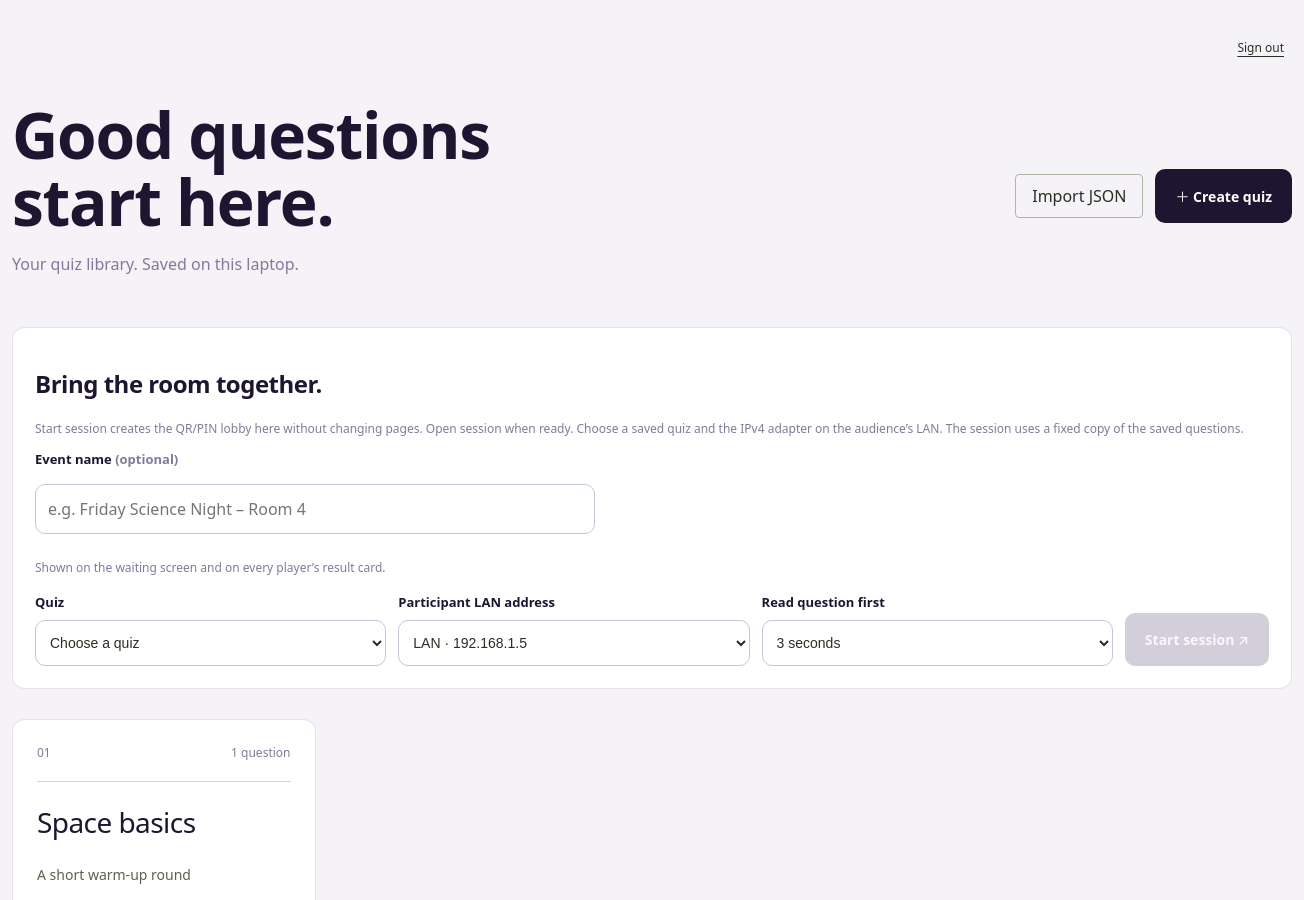
can stop the active session from the library without opening the projector
This screenshot has width=1304, height=900.
Select "Space basics" in the dropdown labelled "Quiz" at (211, 643), box [35, 620, 386, 666]
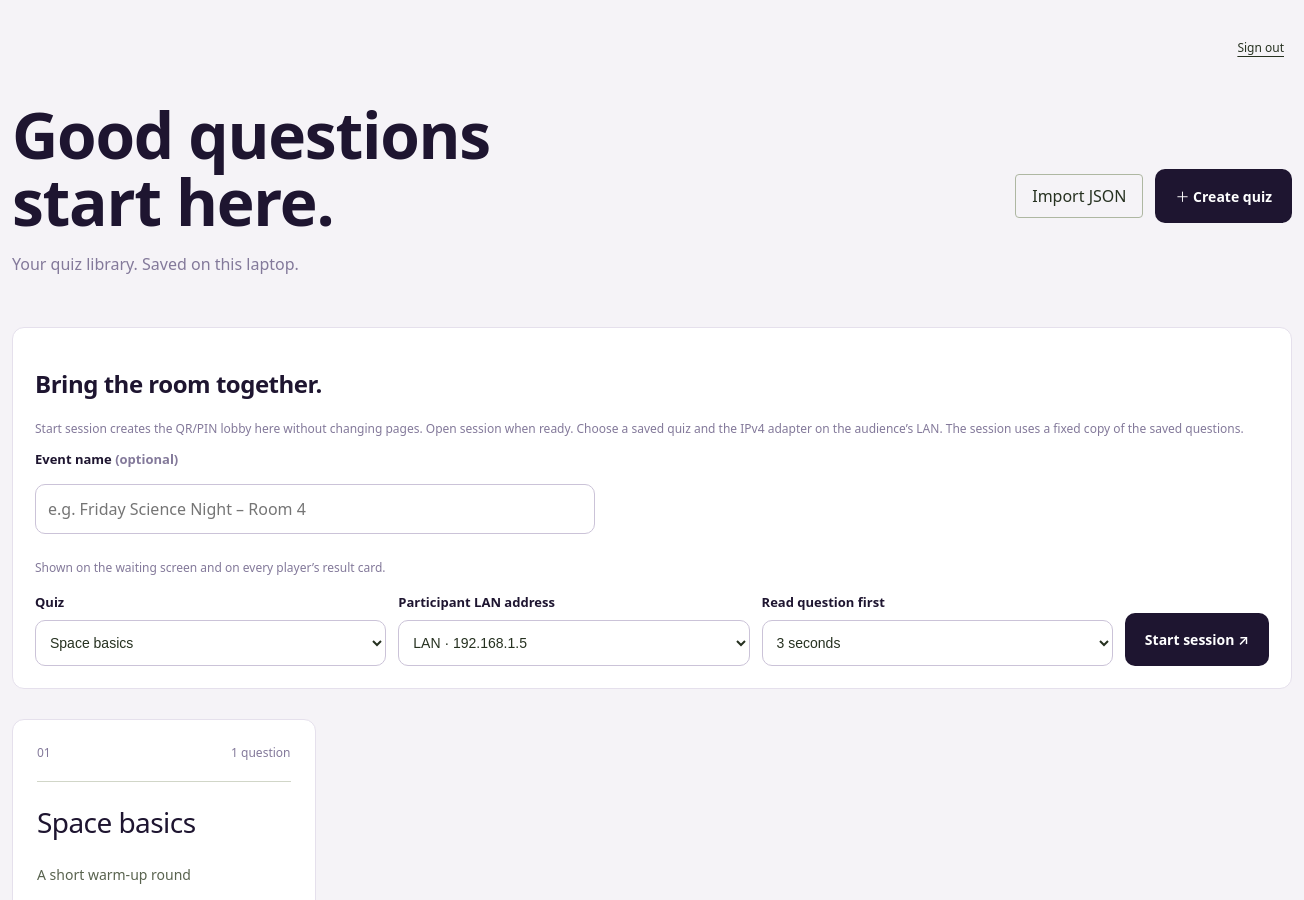
Click the button "Start session ↗" at (1197, 640), box [1125, 613, 1269, 666]
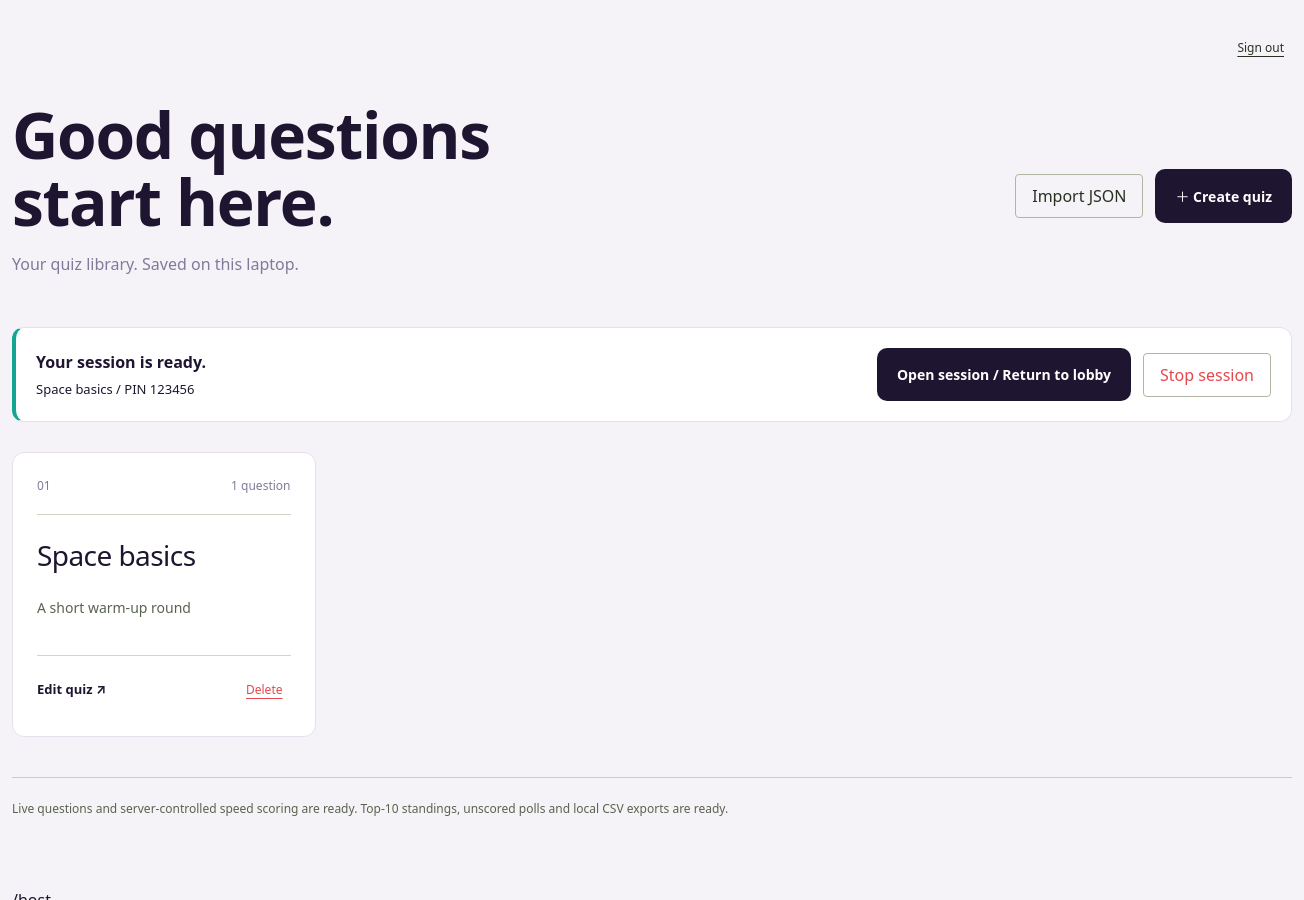
Click the button "Stop session" at (1207, 375), box [1143, 353, 1271, 397]
(page scrolled)
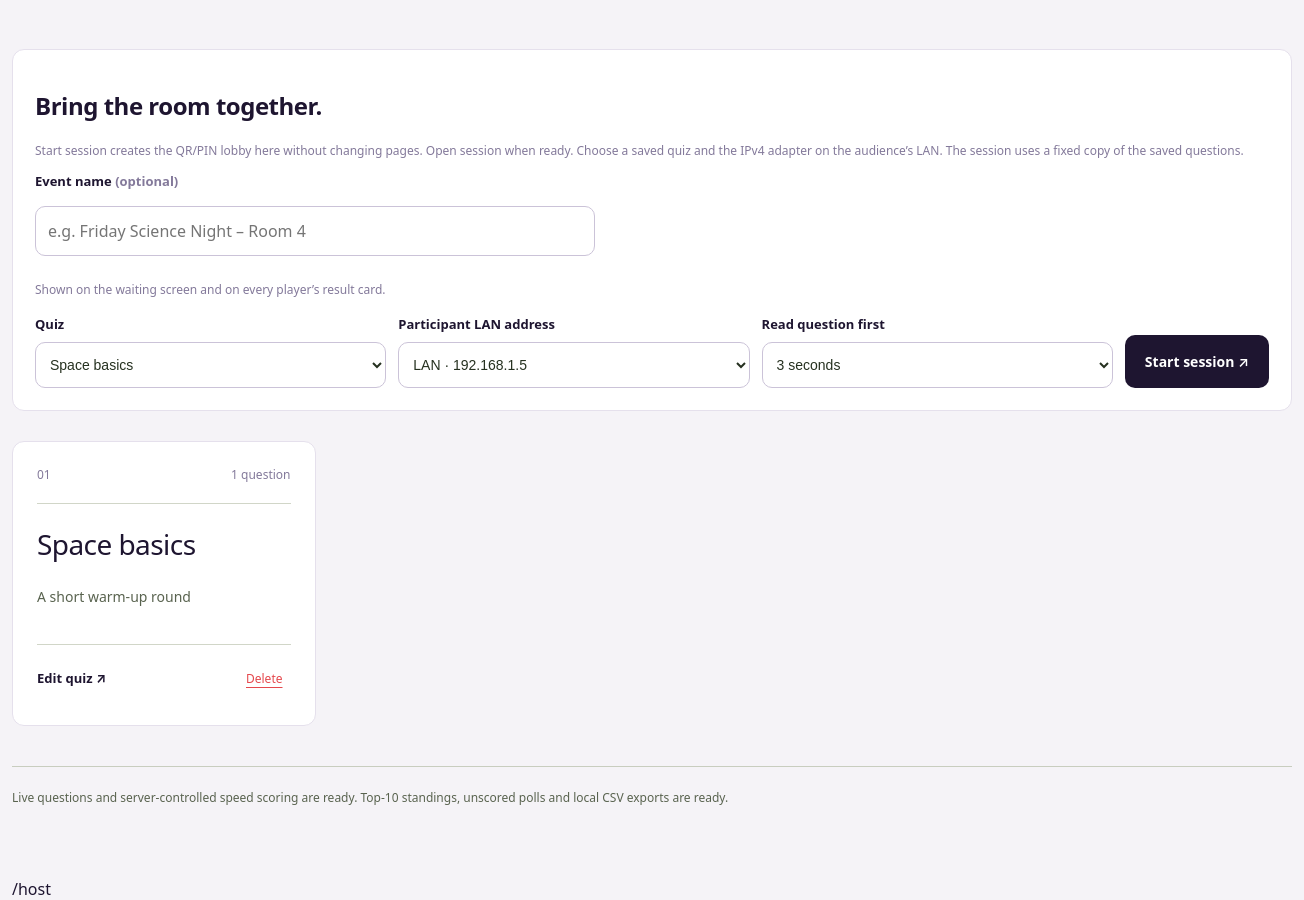
Check: the text "/host" is shown, box [12, 878, 51, 899]
Check: the element with class "active-lobby" is gone
